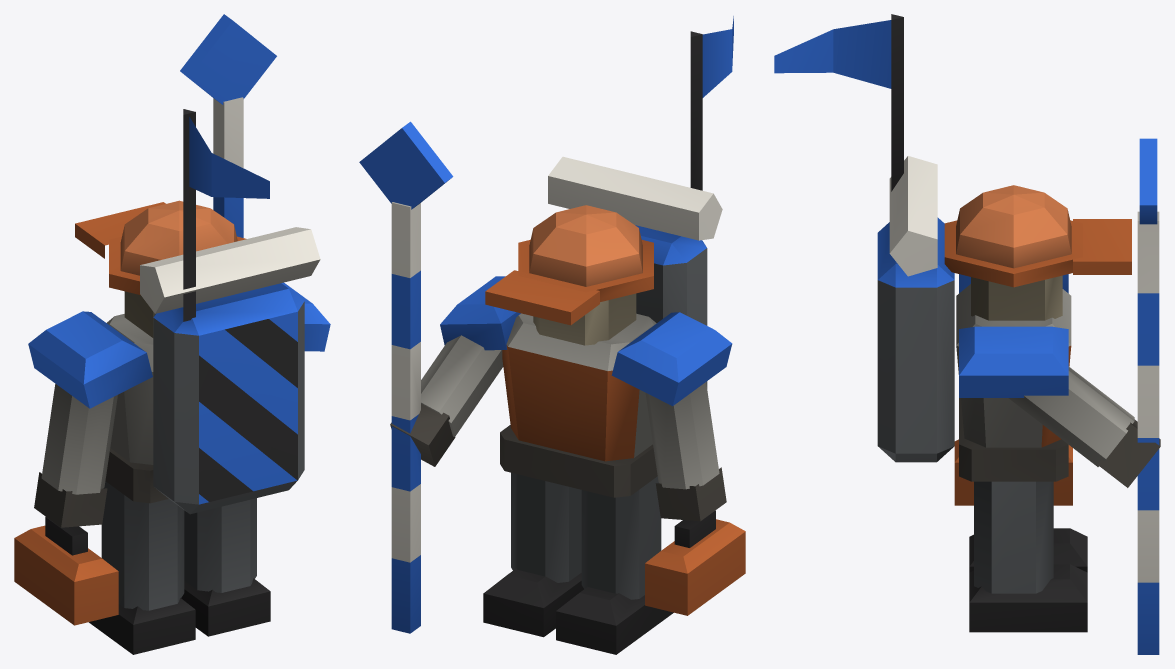
3 views of the same model, side by side, from view 1: azimuth 30°, elevation 25°; view 2: azimuth 150°, elevation 25°; view 3: azimuth 270°, elevation 25° (orthographic). The views are drawn at different scales.
Visible parts, largest first — view 1: body, swingR_armL, swingL_legL, swingR_legR, swingL_armR, swayFlag; view 2: body, swingL_armR, swingR_armL, swingL_legL, swingR_legR, swayFlag; view 3: body, swingL_armR, swingR_legR, swayFlag, swingL_legL, swingR_armL.
Part boxes in pixels (box(x1,y1,x2,y2)): body: box(28, 109, 330, 514); swingR_armL: box(14, 384, 118, 625); swingL_legL: box(89, 481, 195, 654); swingR_legR: box(181, 498, 270, 636); swingL_armR: box(180, 14, 276, 237); swayFlag: box(189, 117, 269, 198); body: box(440, 31, 732, 497); swingL_armR: box(359, 121, 503, 633); swingR_armL: box(645, 382, 745, 615); swingL_legL: box(556, 476, 673, 654); swingR_legR: box(483, 472, 583, 637); swayFlag: box(702, 16, 733, 97); body: box(877, 14, 1131, 481); swingL_armR: box(1008, 138, 1160, 654); swingR_legR: box(969, 481, 1087, 632); swayFlag: box(774, 20, 891, 88); swingL_legL: box(969, 528, 1087, 572); swingR_armL: box(954, 439, 1072, 505).
Size of the model in its own units: 0.5702 by 1.04 by 0.6533.
